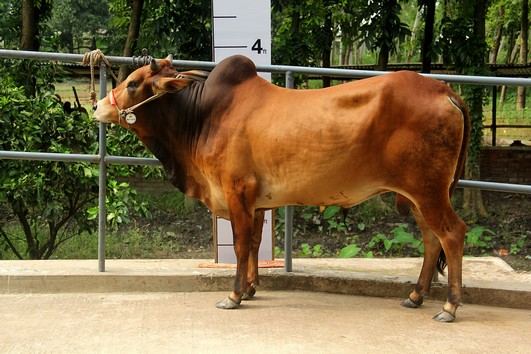cow: (90, 44, 469, 325)
